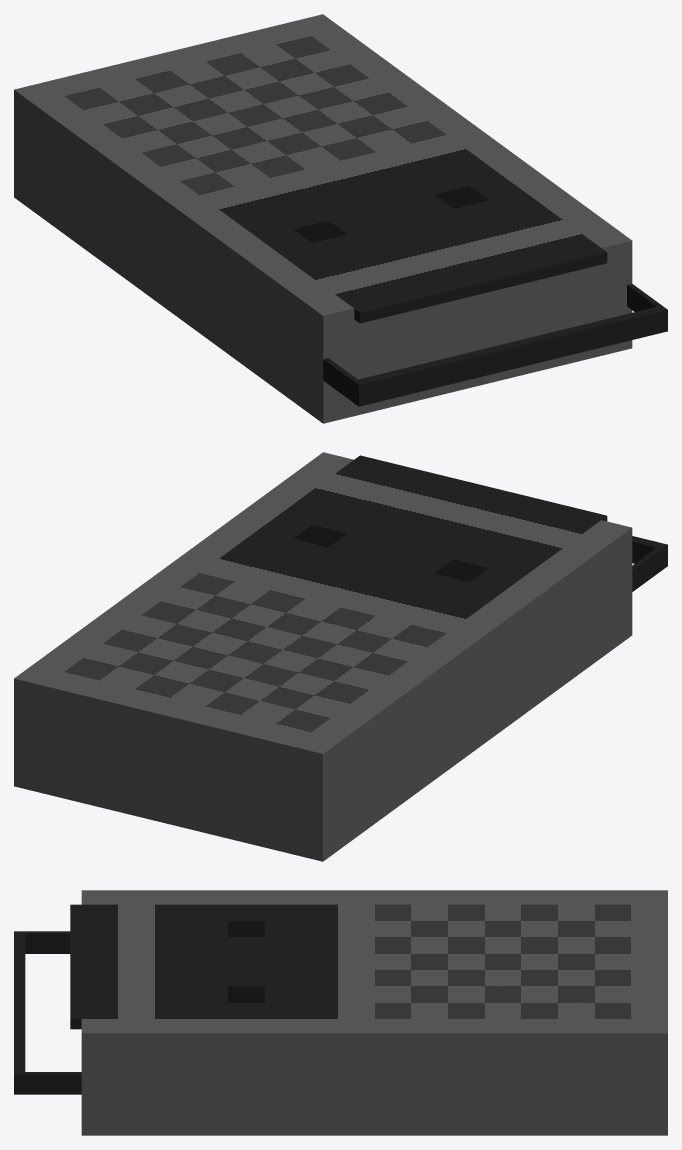
The model's file is tape_recorder.glb.
3 renders of one model, top to bottom at view 1: azimuth 30°, elevation 25°; view 2: azimuth 150°, elevation 25°; view 3: azimuth 270°, elevation 25°, orthographic. The views are drawn at different scales.
Parts seen in each view (by area): view 1: Tape Recorder; view 2: Tape Recorder; view 3: Tape Recorder.
Part boxes in pixels (<box>): Tape Recorder: <box>14,14,667,423</box>; Tape Recorder: <box>14,452,667,861</box>; Tape Recorder: <box>14,890,667,1135</box>.
Bounding box in the file's own units: 0.3 × 0.1 × 0.58.
Materials: 1 (1 with a texture image).
